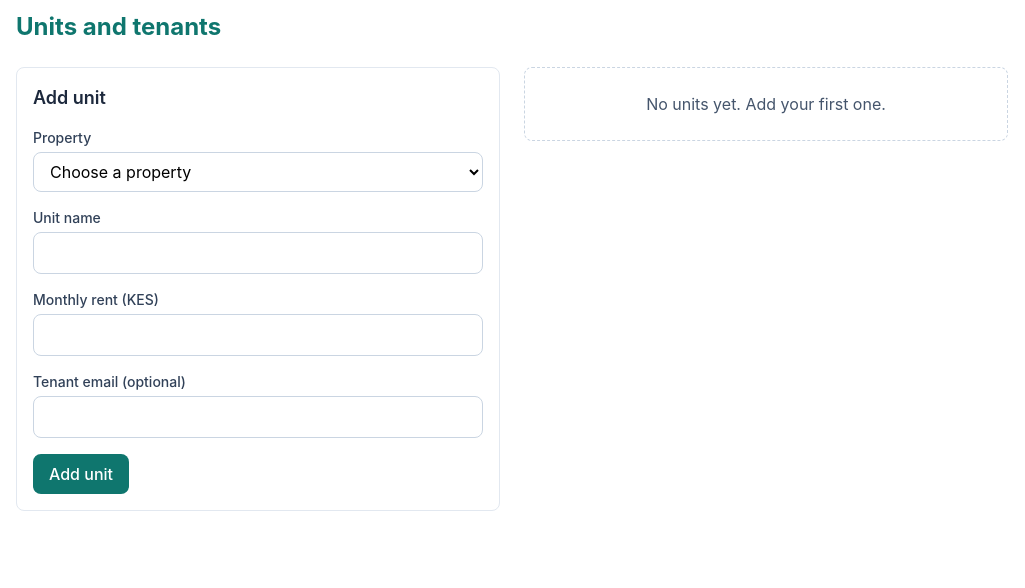
Test: Units page › explains when the email belongs to a landlord
Select "Sunrise" in the dropdown labelled "Property": (258, 172) left=33, top=152, right=483, bottom=192
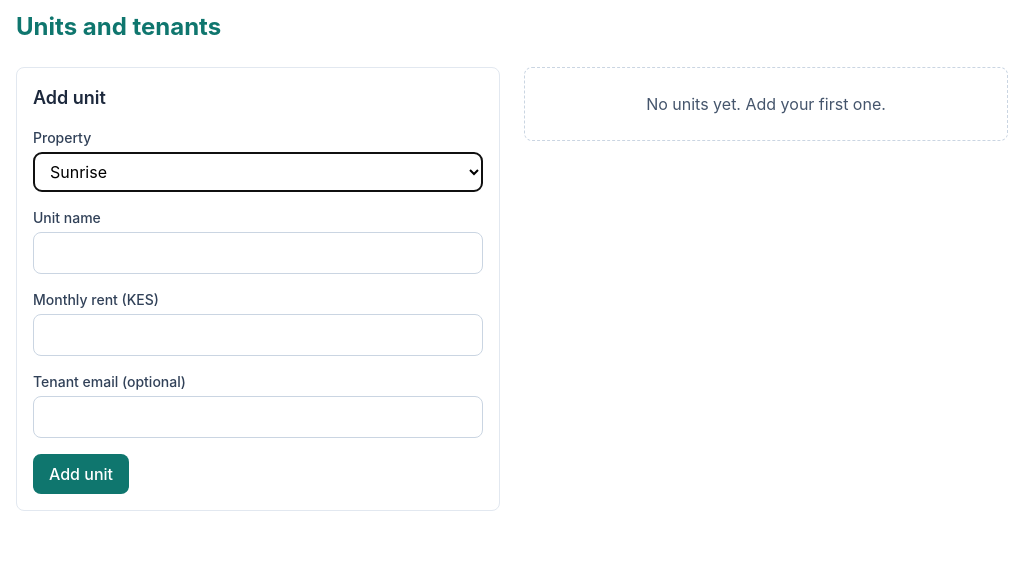
In the field labelled "Unit name": (258, 253) left=33, top=232, right=483, bottom=274, type "A1"
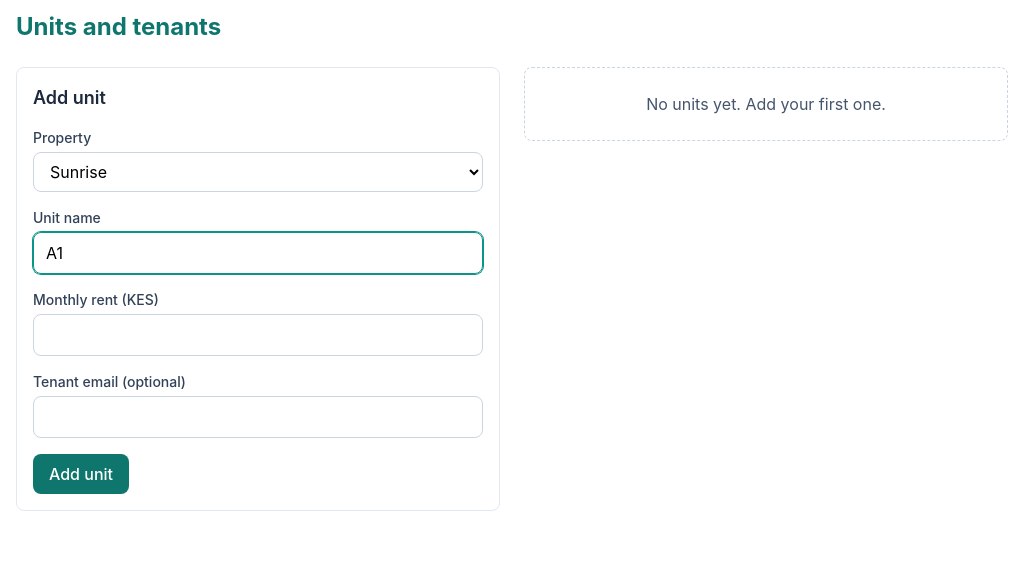
In the number field labelled "Monthly rent (KES)": (258, 335) left=33, top=314, right=483, bottom=356, type "15000"
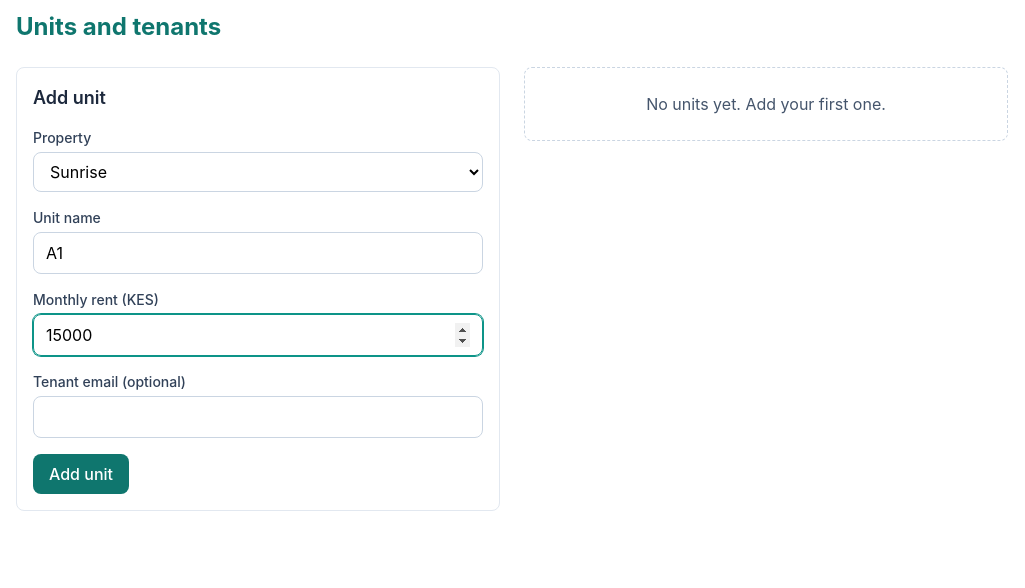
Click the button "Add unit": (81, 474) left=33, top=454, right=129, bottom=494
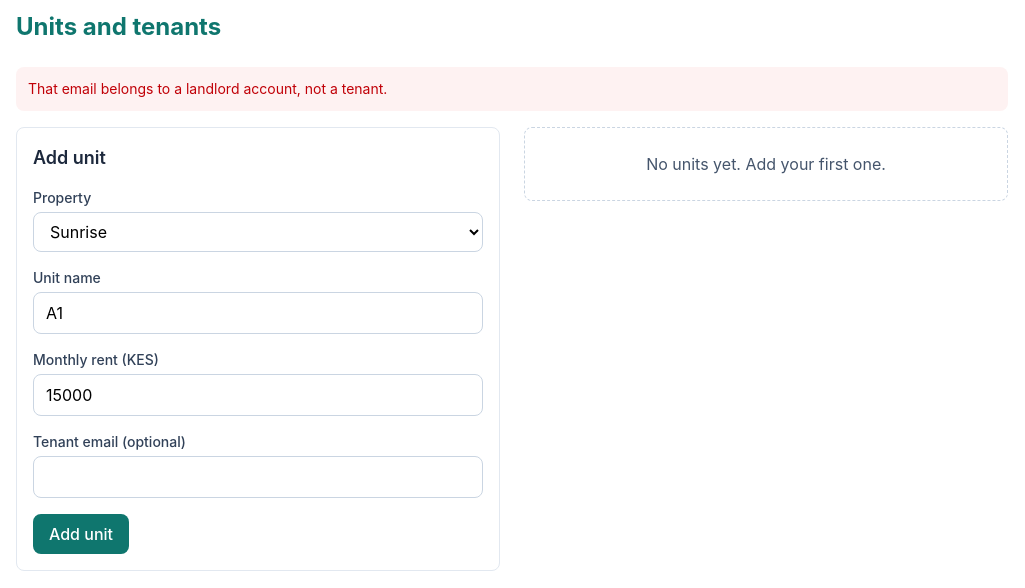
expect the message shows "landlord account": met, box left=28, top=80, right=387, bottom=97
